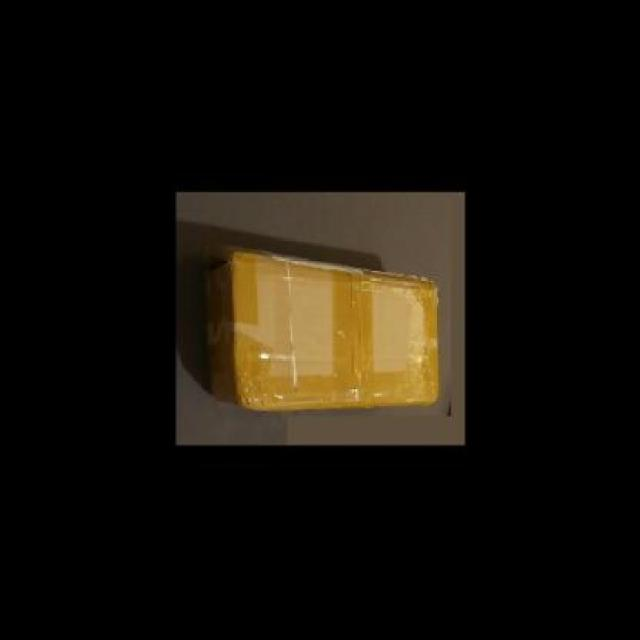cardboxes: (204, 248, 441, 408)
